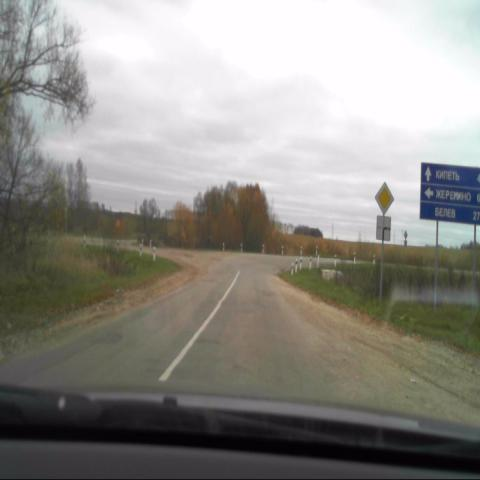8_13: (375, 216, 390, 241)
